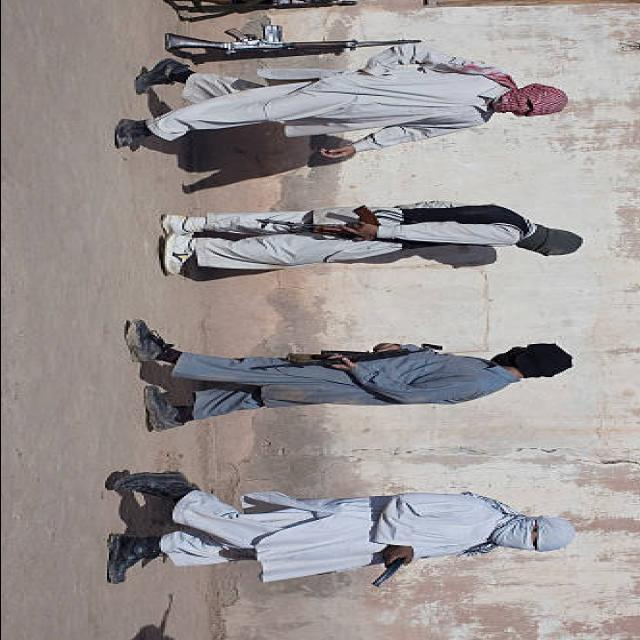civilian: (116, 43, 567, 157), (162, 201, 582, 274)
terrorist: (108, 473, 574, 582), (127, 320, 571, 430), (162, 201, 582, 274)
